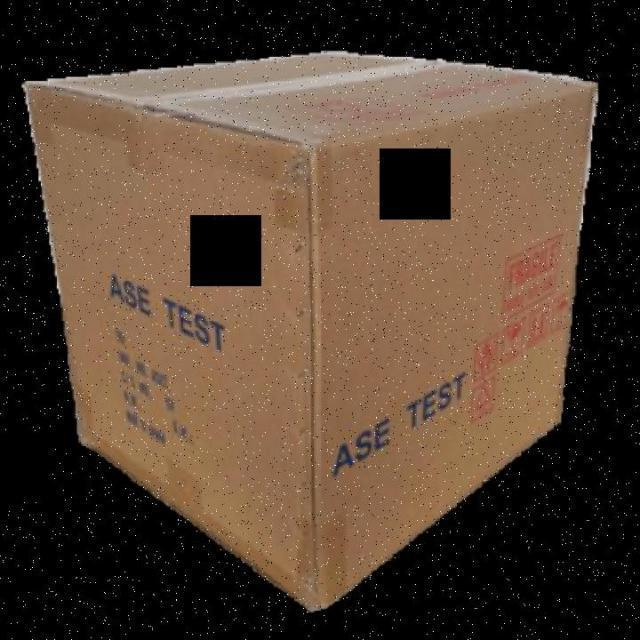box: (15, 33, 613, 614)
